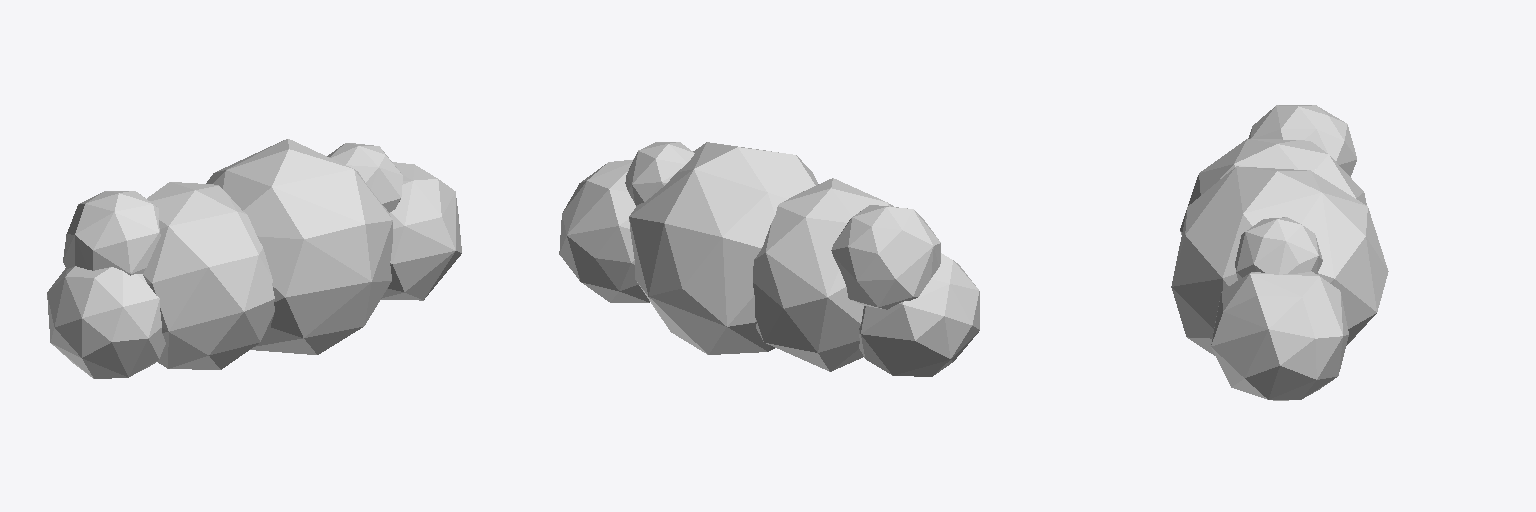
3 renders of one model, left to right at view 1: azimuth 30°, elevation 25°; view 2: azimuth 150°, elevation 25°; view 3: azimuth 270°, elevation 25°, orthographic.
Parts seen in each view (by area): view 1: Clouds_03_Untitled.001; view 2: Clouds_03_Untitled.001; view 3: Clouds_03_Untitled.001.
Part boxes in pixels (x1,y1,x2,y2): Clouds_03_Untitled.001: (47, 139, 461, 378); Clouds_03_Untitled.001: (559, 142, 979, 376); Clouds_03_Untitled.001: (1171, 105, 1388, 400).
Size of the model in its own units: 2.1 by 0.9905 by 0.9734.
Materials: 1 (1 with a texture image).